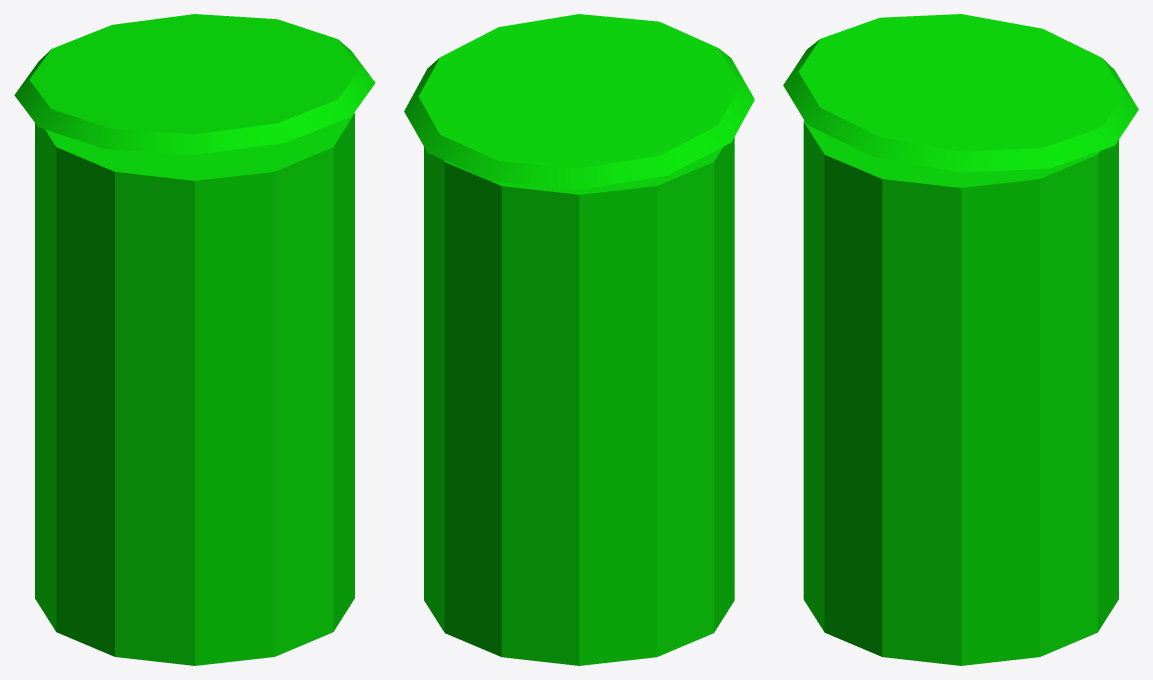
File: urn.fbx
3 views of the same model, side by side, from view 1: azimuth 30°, elevation 25°; view 2: azimuth 150°, elevation 25°; view 3: azimuth 270°, elevation 25° (orthographic). The views are drawn at different scales.
Parts seen in each view (by area): view 1: polySurface2; view 2: polySurface2; view 3: polySurface2.
Part boxes in pixels (x1,y1,x2,y2): polySurface2: [14, 14, 375, 665]; polySurface2: [404, 14, 754, 665]; polySurface2: [783, 14, 1138, 665].
Bounding box in the file's own units: 66.19 × 108 × 66.12.
